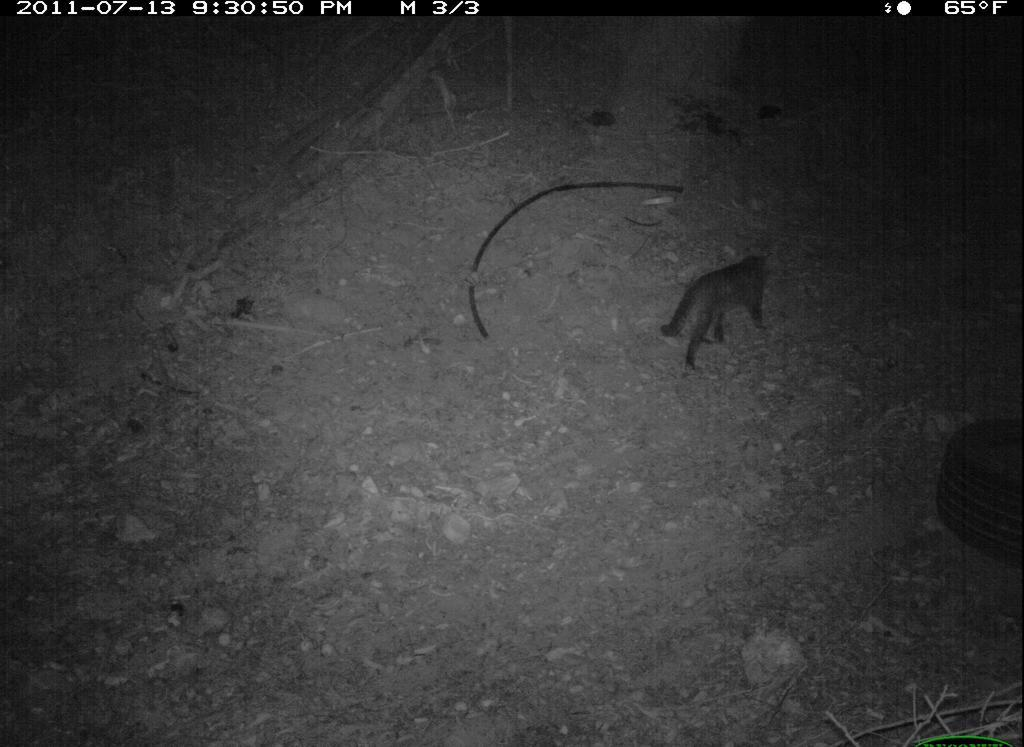cat: (657, 242, 783, 376)
